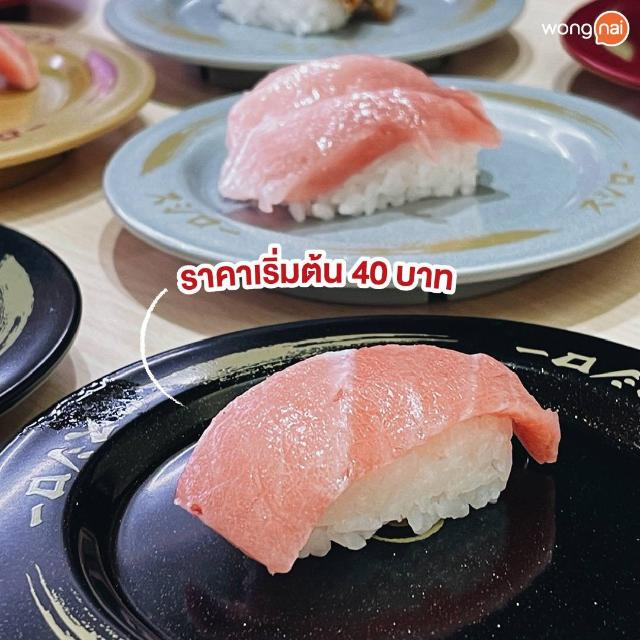janback: (12, 366, 640, 624), (4, 219, 82, 368)
jangold: (7, 3, 154, 130)
janred: (558, 0, 640, 84)
janwhite: (145, 103, 612, 277), (104, 0, 541, 77)
